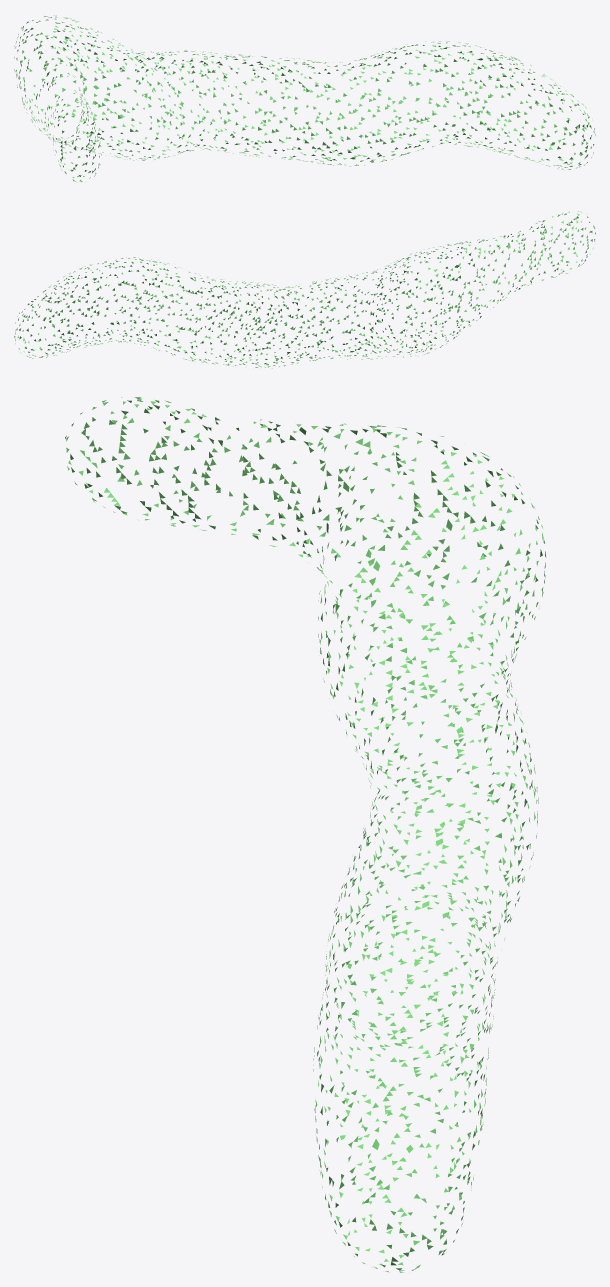
Rendered from morph_017.glb.
The picture shows the model from 3 angles, top to bottom: view 1: azimuth 30°, elevation 25°; view 2: azimuth 150°, elevation 25°; view 3: azimuth 270°, elevation 25°; orthographic projection. The views are drawn at different scales.
Size of the model in its own units: 118 by 48.32 by 49.48.
